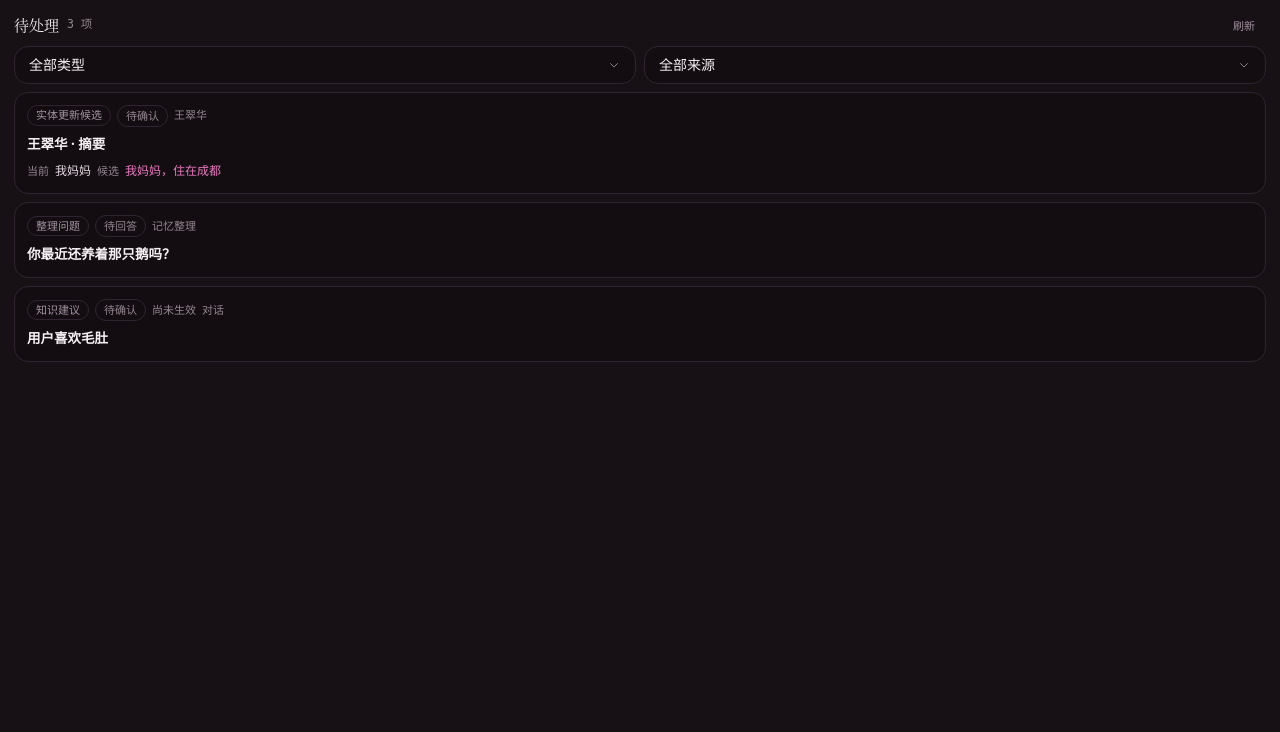
Test: PendingItems 知识建议动作（确认 / 修改后确认 / 不保存） › 409 版本变化：刷新真实状态、保留草稿、不显示为成功
Click the button "知识建议 待确认 尚未生效 对话 用户喜欢毛肚": (58, 310) [14,286,1266,362]
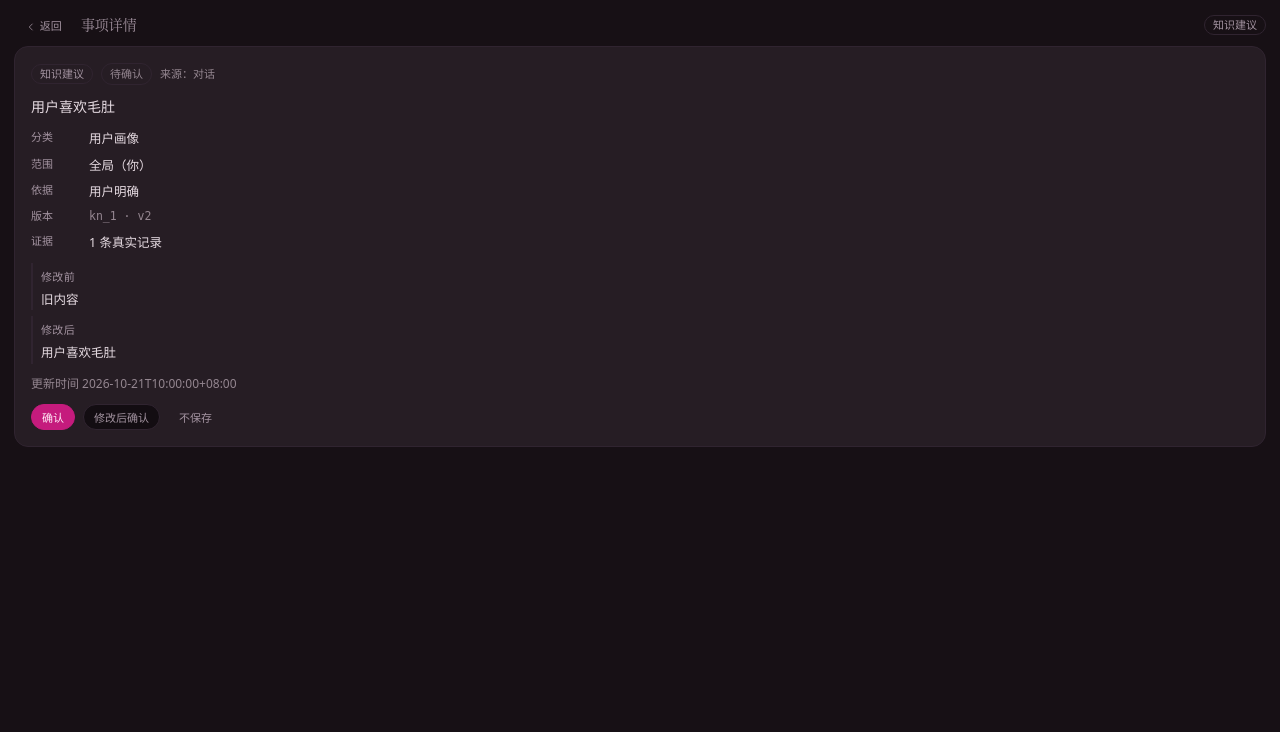
Click the button "修改后确认": (122, 417) [83,404,160,430]
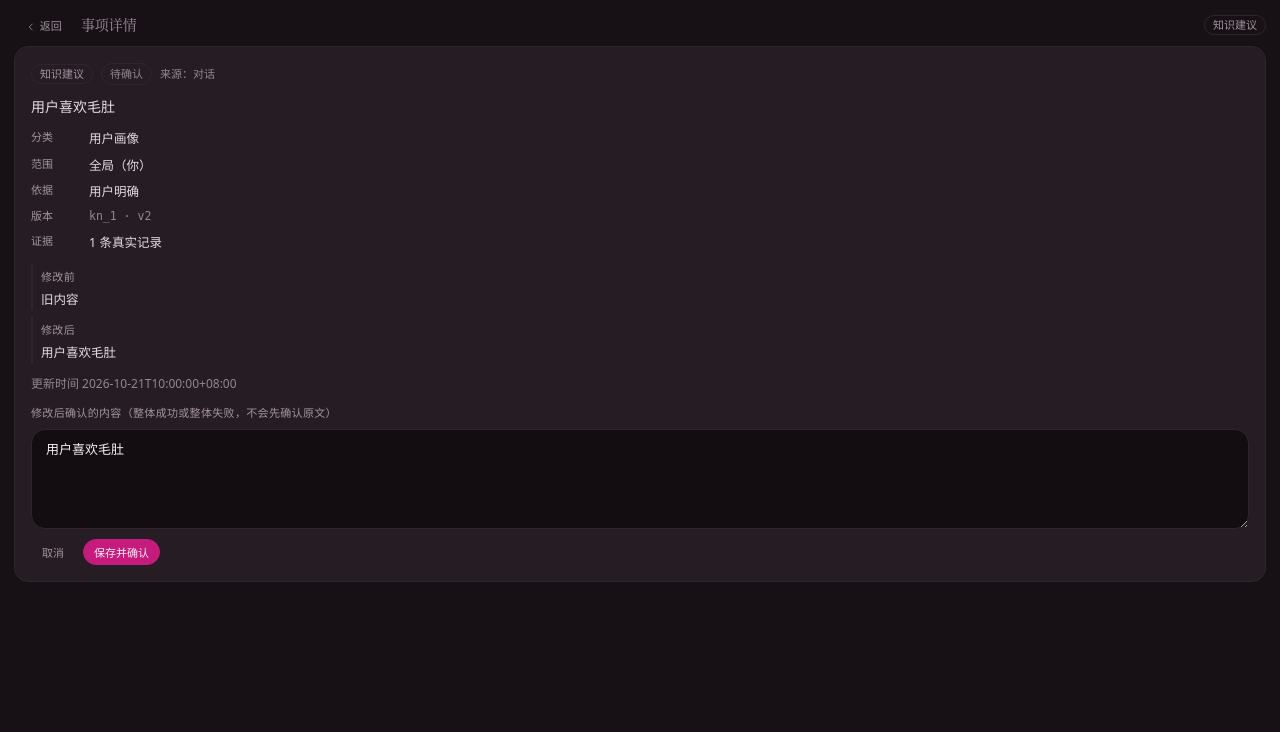
Replace the text in the text box labelled "修改后确认的内容（整体成功或整体失败，不会先确认原文）" with "我的修改": (640, 479) [31,429,1249,529]
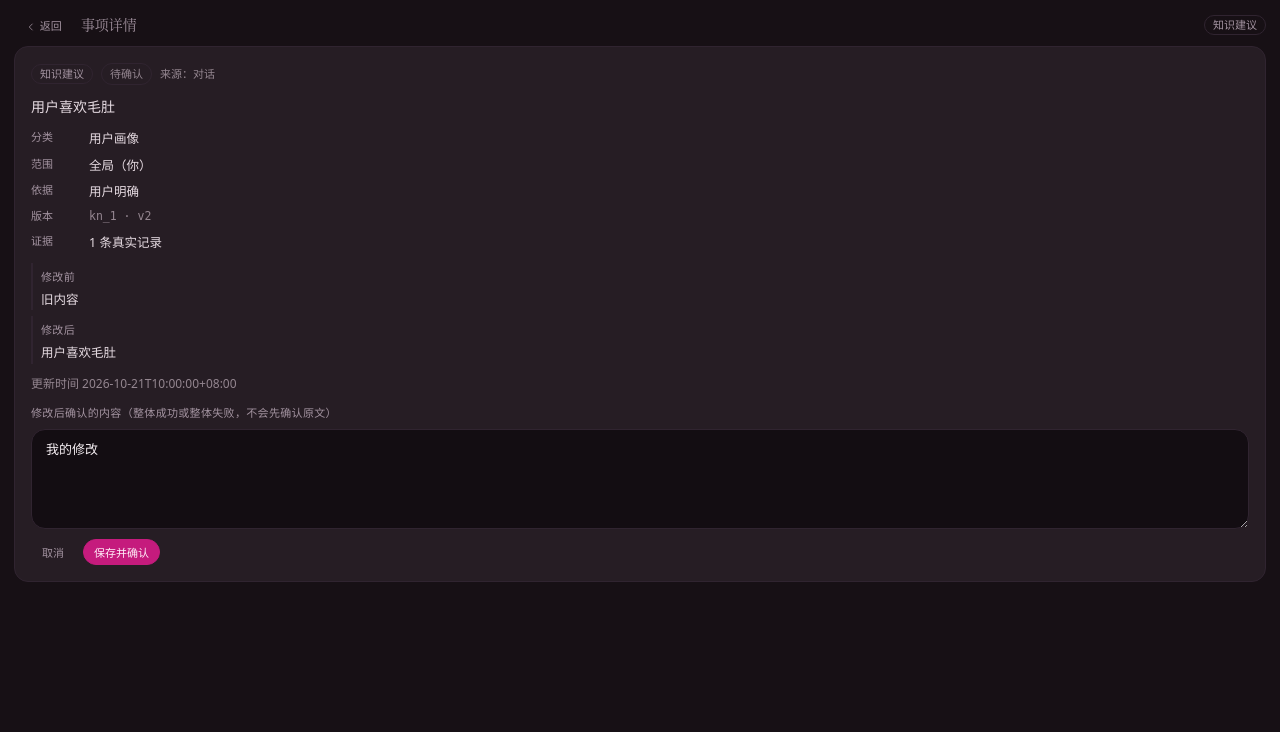
Click the button "保存并确认": (122, 552) [83,539,160,565]
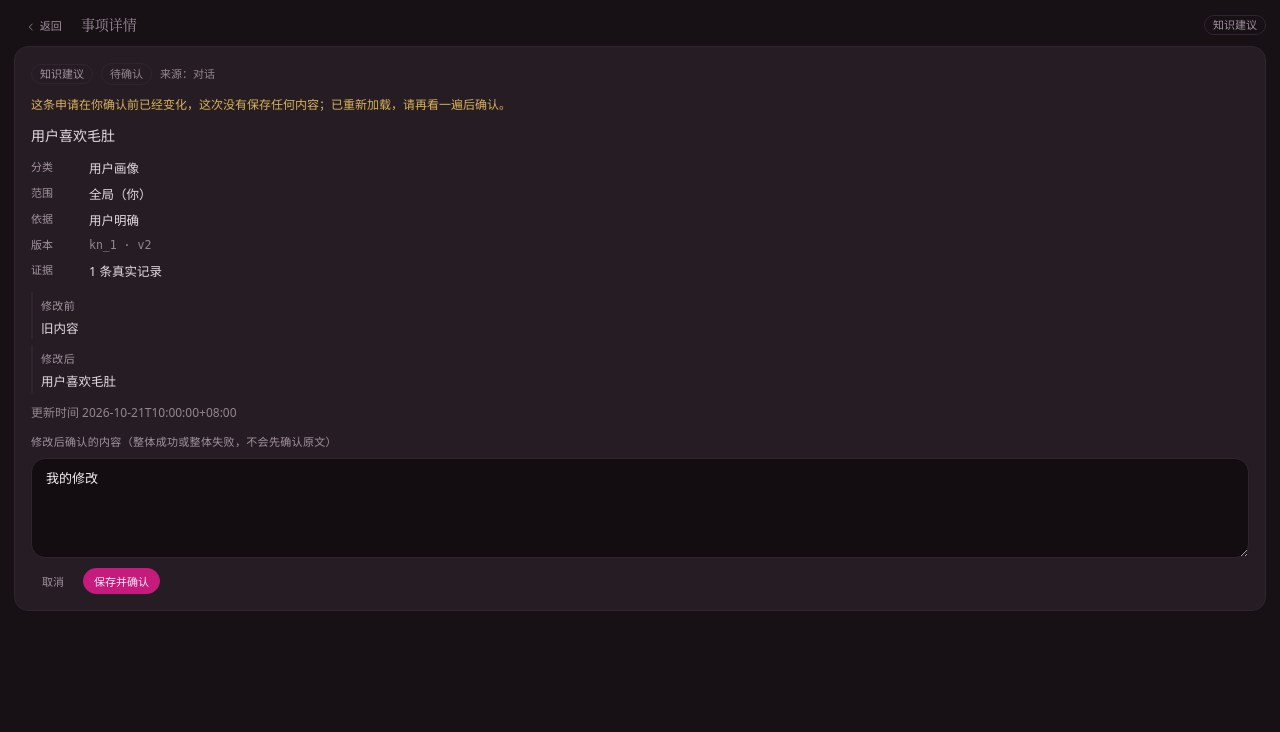
Now the message "这条申请在你确认前已经变化，这次没有保存任何内容；已重新加载，请再看一遍后确认。" is shown, box [31,96,511,113]
